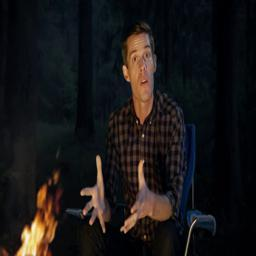fire: (19, 172, 63, 256)
